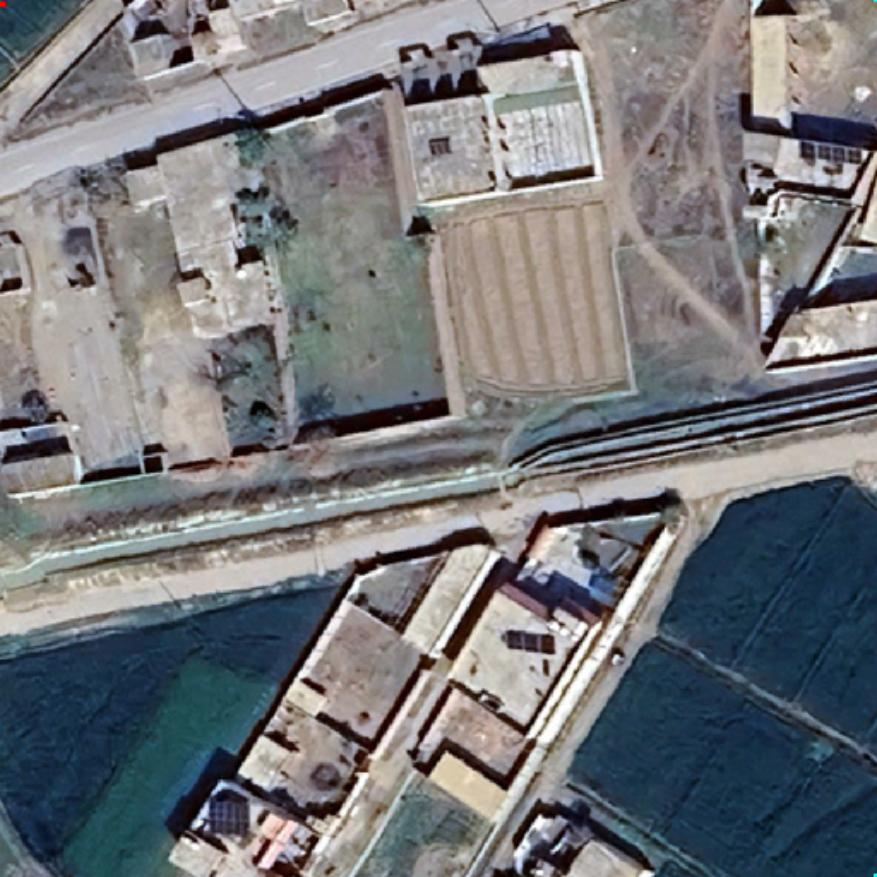Solarpanel: (794, 138, 865, 165), (208, 797, 252, 837), (504, 629, 558, 655), (422, 135, 454, 157)
